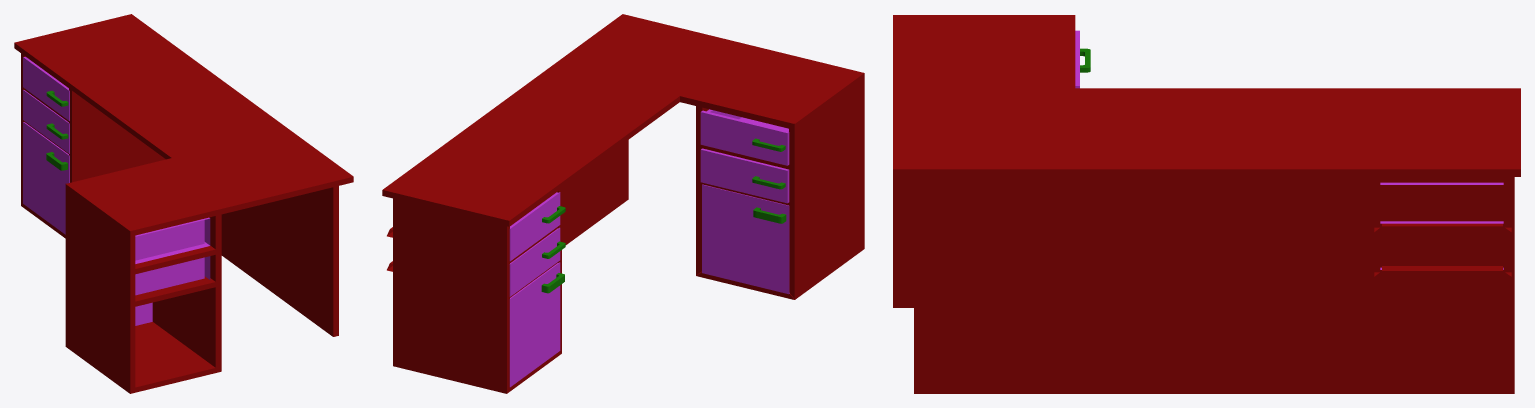
File: N_Desk.fbx
The picture shows the model from 3 angles, left to right: view 1: azimuth 30°, elevation 25°; view 2: azimuth 150°, elevation 25°; view 3: azimuth 270°, elevation 25°; orthographic projection. The views are drawn at different scales.
Visible parts, largest first — view 1: Object, Object002, Object021, Object010, Object016, Object008, Tir_012, Object006, Box004, Box003, Box002, Box001 (+4 smaller); view 2: Object, Object012, Object002, Object010, Tir_004, Tir_012, Object021, Box004, Box003, Object004, Box002, Box001 (+1 smaller); view 3: Object021, Object, Object002, Object008, Object024, Object025, Box002.
Boxes of the visible parts, x1,y1,x2,y2 form: Object: [14, 14, 353, 176]; Object002: [66, 158, 353, 235]; Object021: [221, 186, 338, 336]; Object010: [65, 184, 135, 393]; Object016: [69, 88, 165, 182]; Object008: [152, 214, 221, 371]; Tir_012: [23, 122, 69, 234]; Object006: [130, 322, 220, 393]; Box004: [135, 217, 210, 263]; Box003: [135, 256, 210, 295]; Box002: [23, 56, 69, 120]; Box001: [23, 90, 69, 153]; Object: [382, 14, 679, 226]; Object012: [393, 198, 509, 393]; Object002: [623, 14, 863, 128]; Object010: [794, 73, 864, 299]; Tir_004: [702, 184, 789, 294]; Tir_012: [509, 262, 564, 387]; Object021: [562, 140, 628, 244]; Box004: [700, 109, 789, 165]; Box003: [700, 148, 789, 203]; Object004: [696, 105, 794, 298]; Box002: [509, 192, 560, 261]; Box001: [509, 227, 560, 296]; Object021: [914, 177, 1514, 393]; Object: [893, 88, 1520, 176]; Object002: [893, 15, 1075, 168]; Object008: [893, 177, 913, 307]; Object024: [1374, 266, 1511, 276]; Object025: [1374, 223, 1511, 232]; Box002: [1380, 182, 1503, 223].
Bounding box in the file's own units: 108 × 75.4 × 186.
